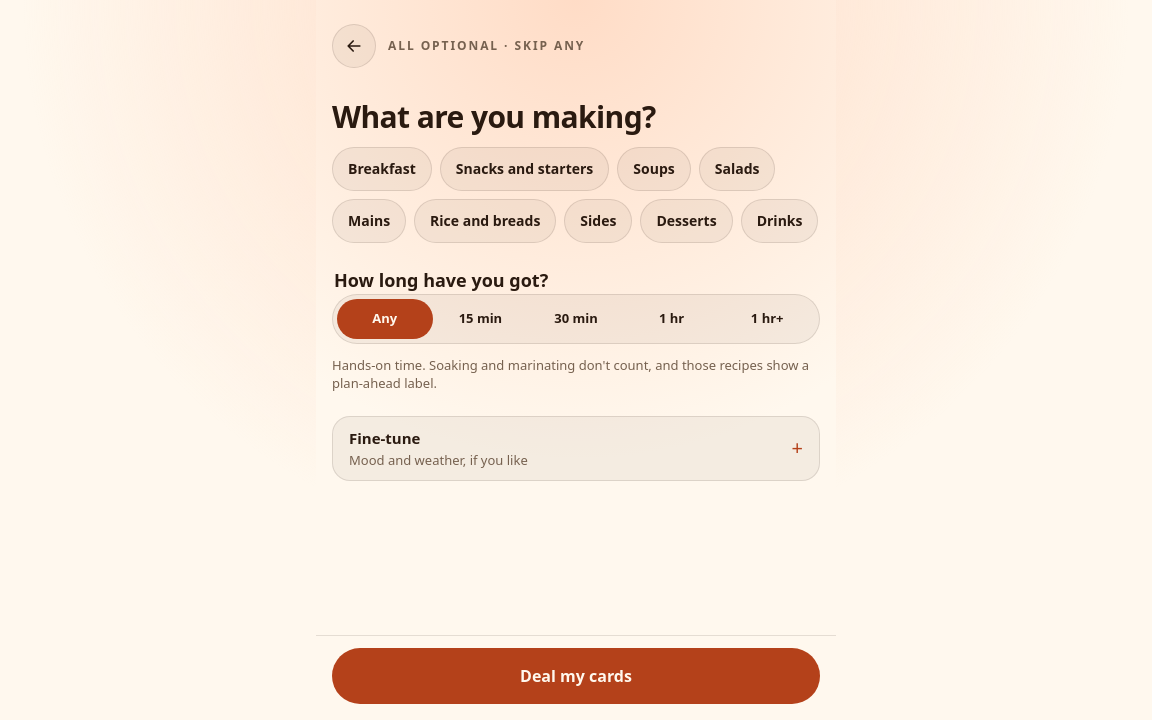
Test case: picks are counted, remembered and dealt
Expected: the heading "What are you making?" is shown, [332, 96, 656, 137]
Click the button "Snacks and starters".
click(525, 168)  # box [440, 146, 609, 190]
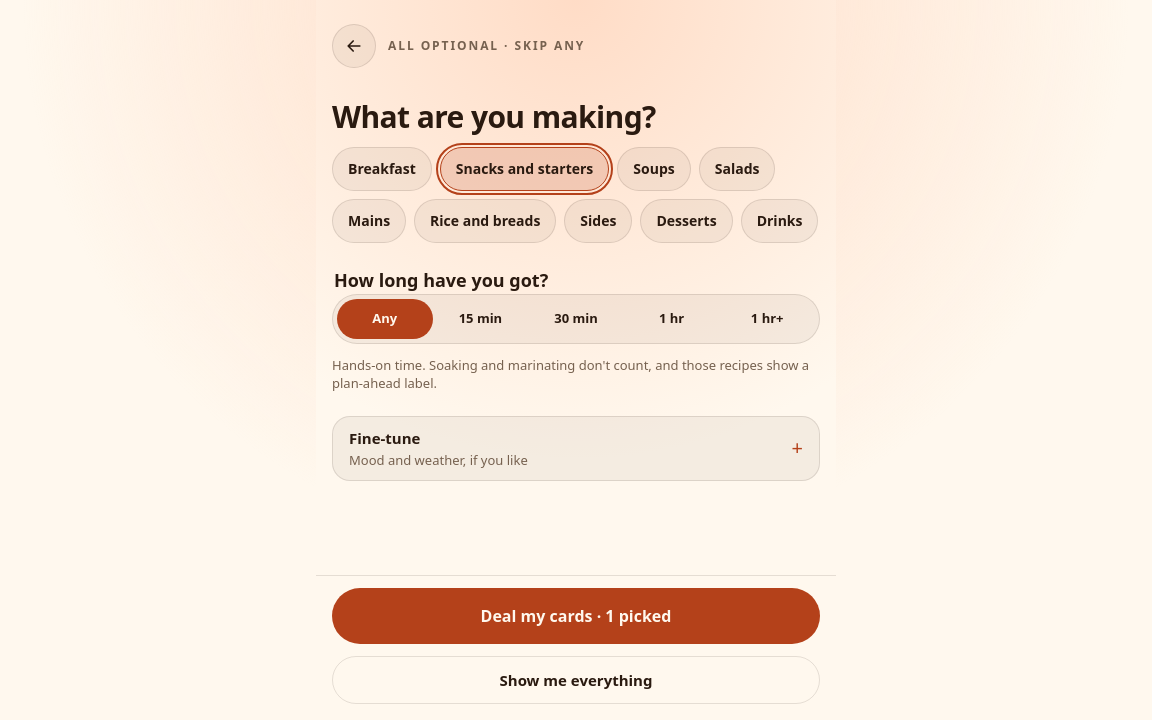
Click the radio button labelled "1 hr+".
click(767, 318)  # box [751, 309, 784, 327]
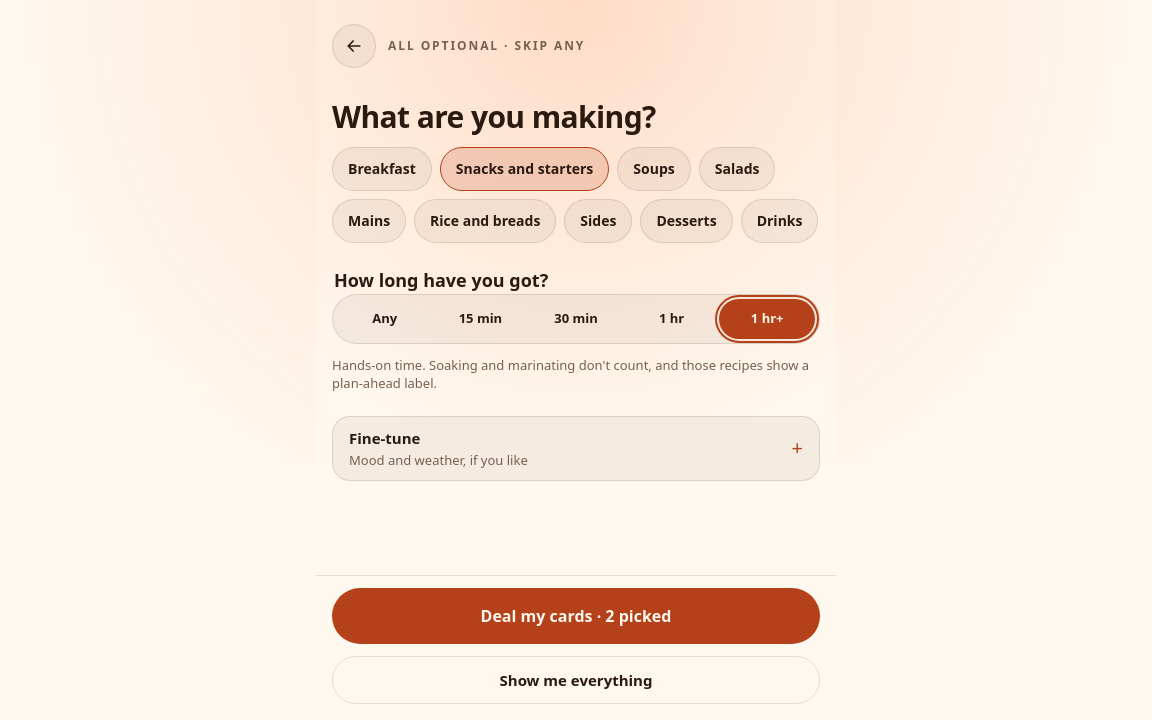
Expected: the button "Spicy" is not shown
Click the button "Fine-tune Mood and weather, if you like +".
click(385, 438)  # box [332, 416, 820, 481]
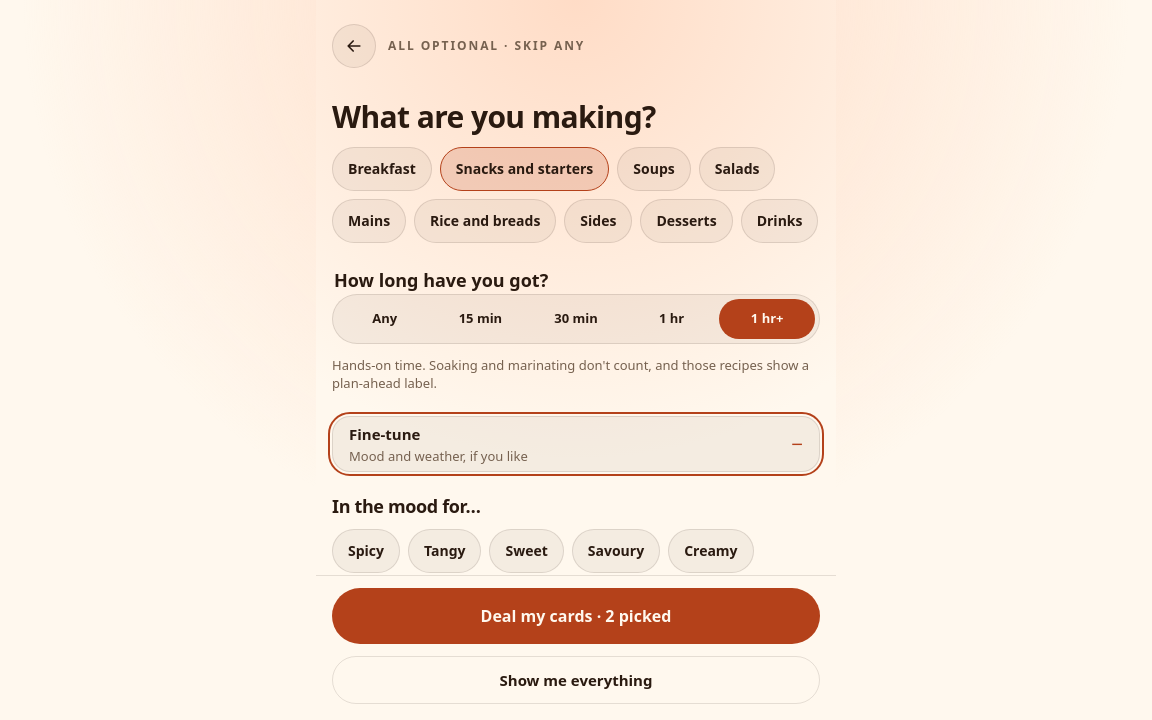
Click the button "Spicy".
click(366, 551)  # box [332, 529, 400, 573]
(page scrolled)
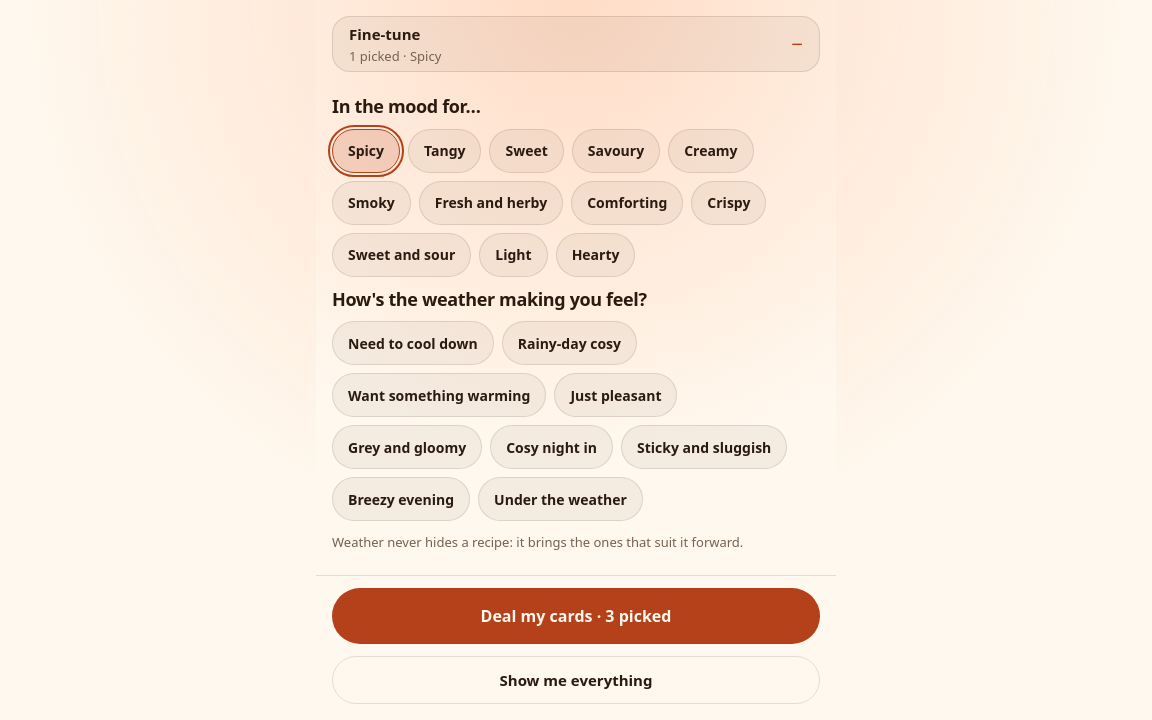
Click the button "Rainy-day cosy".
click(569, 343)  # box [502, 321, 637, 365]
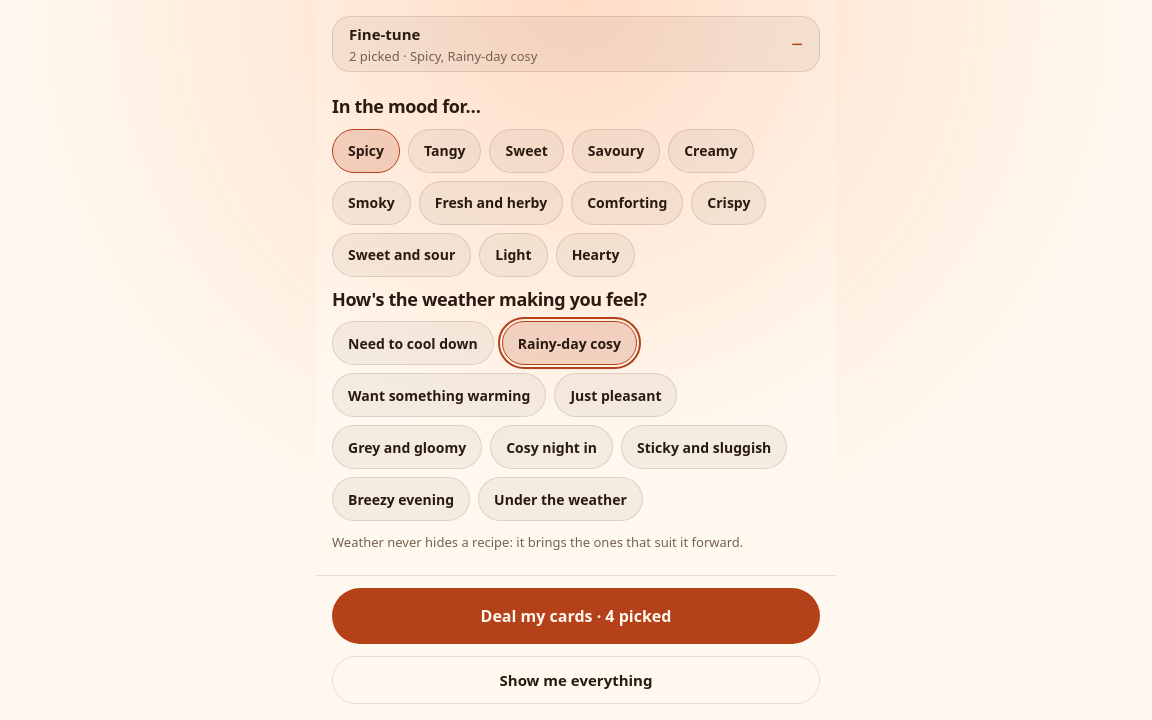
Result: the button "Fine-tune 2 picked · Spicy, Rainy-day cosy −" is shown at [332, 16, 820, 72]
Click the button "Deal my cards · 4 picked".
click(576, 616)  # box [332, 588, 820, 644]
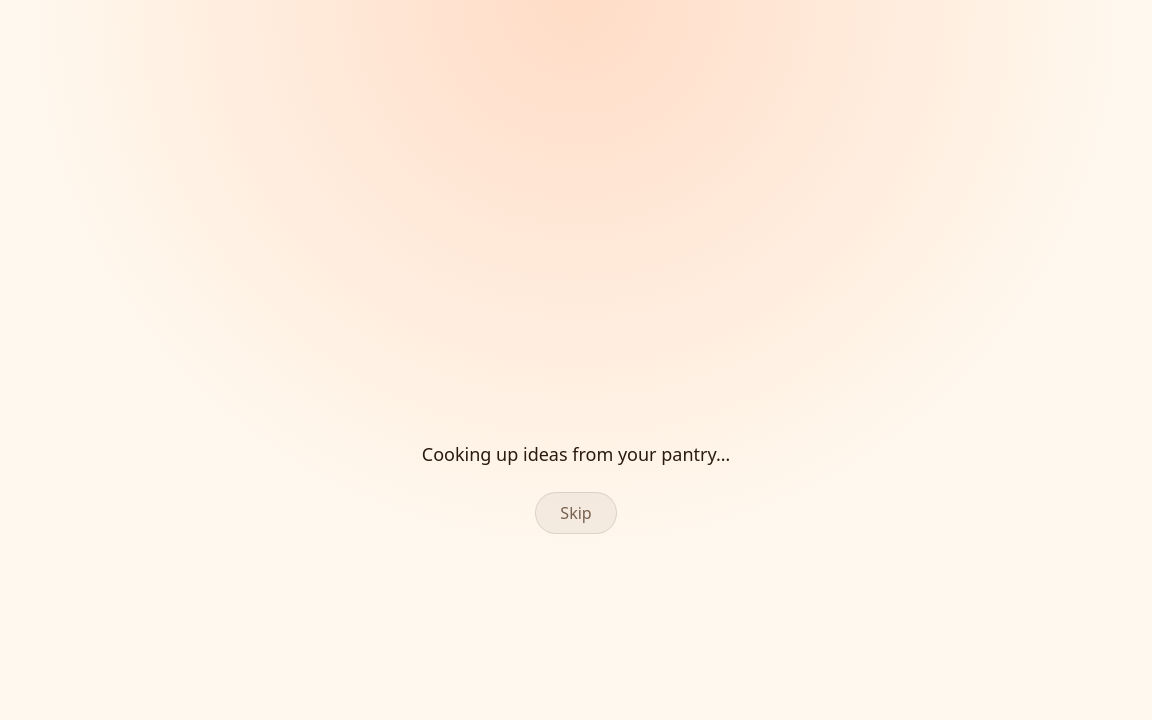
Result: the text "Cooking up ideas from your pantry…" is shown at [422, 440, 730, 468]
